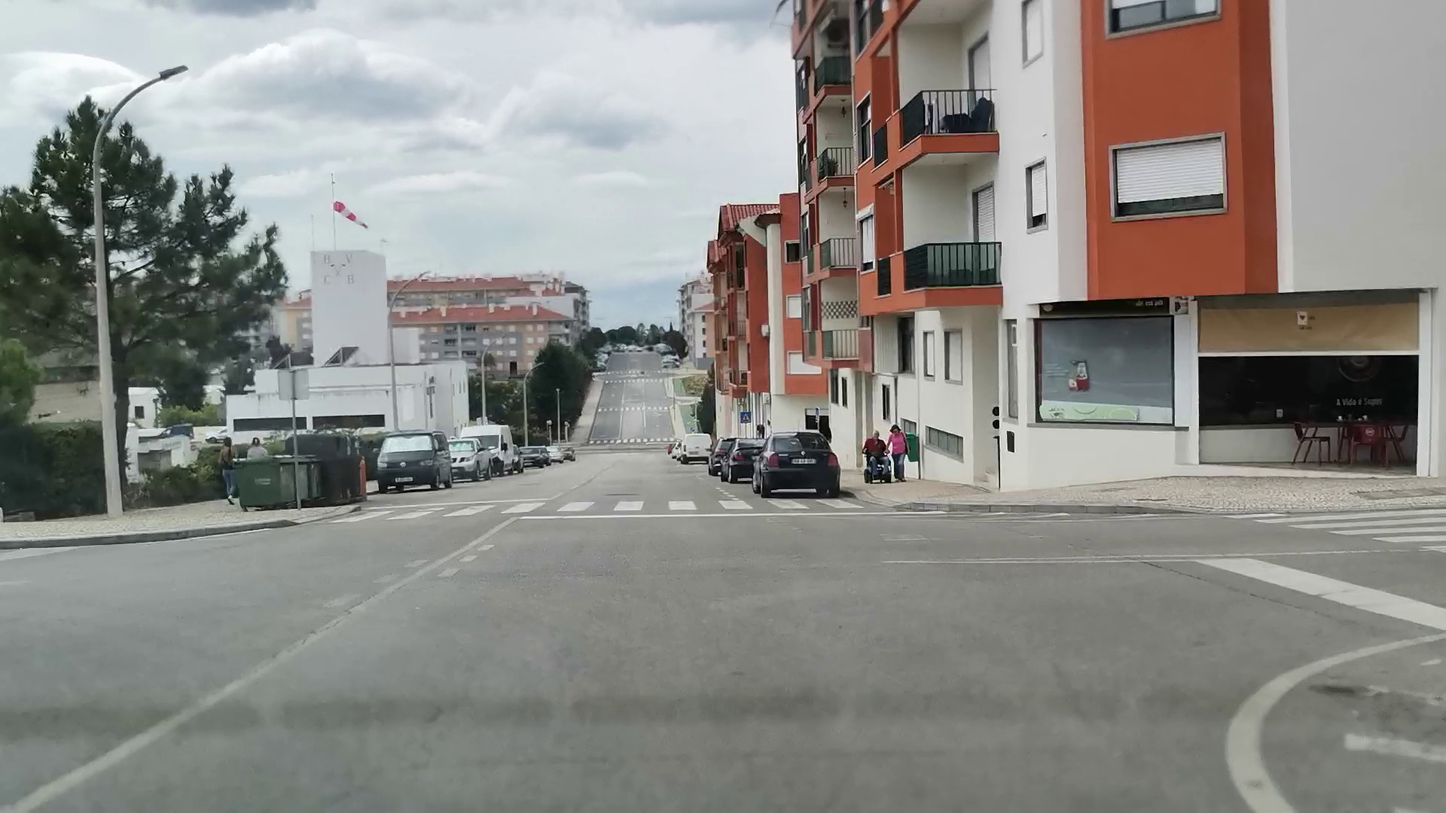Stairs: (338, 496, 860, 523)
